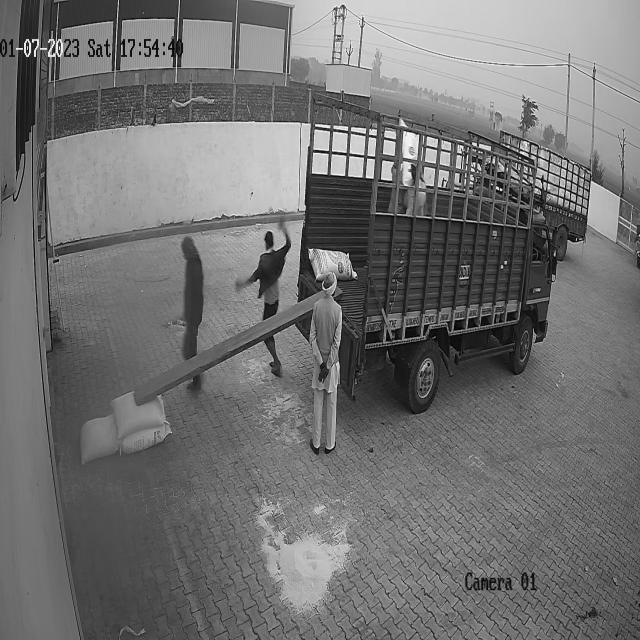sack: (112, 392, 164, 436), (79, 416, 118, 462), (307, 246, 358, 281), (120, 422, 170, 454)
